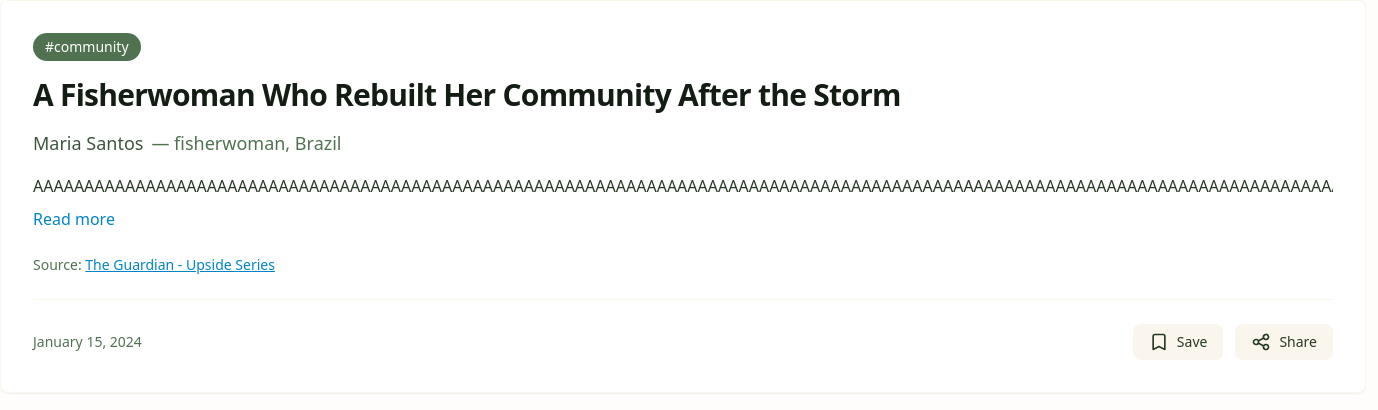
Test: StoryCard › expands and collapses long narratives
The image size is (1378, 410).
# Click to expand
Click the button "Read more" at (74, 219), box [33, 207, 115, 231]
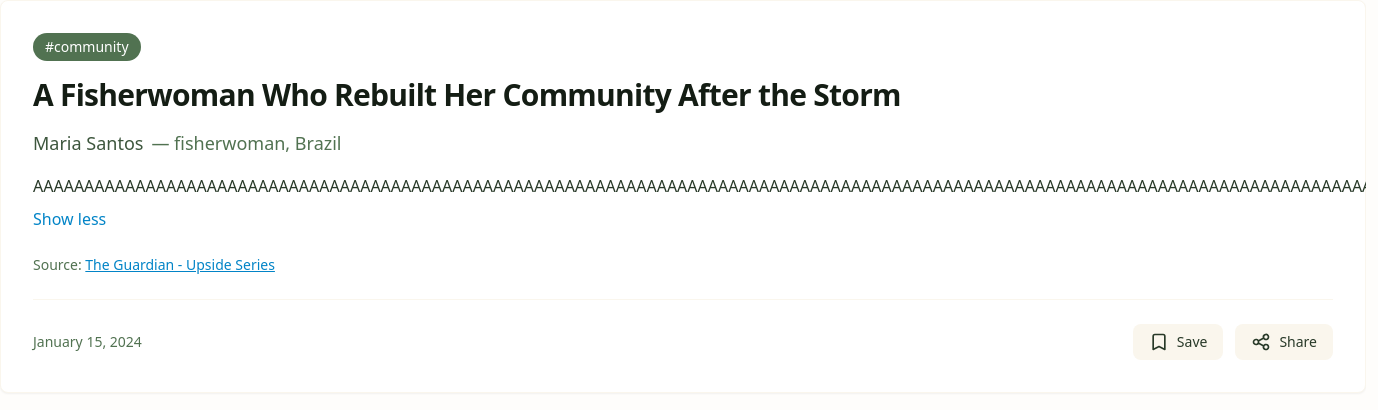
Check: the button "Show less" is shown
# Click to collapse
Click the button "Show less" at (70, 219), box [33, 207, 106, 231]
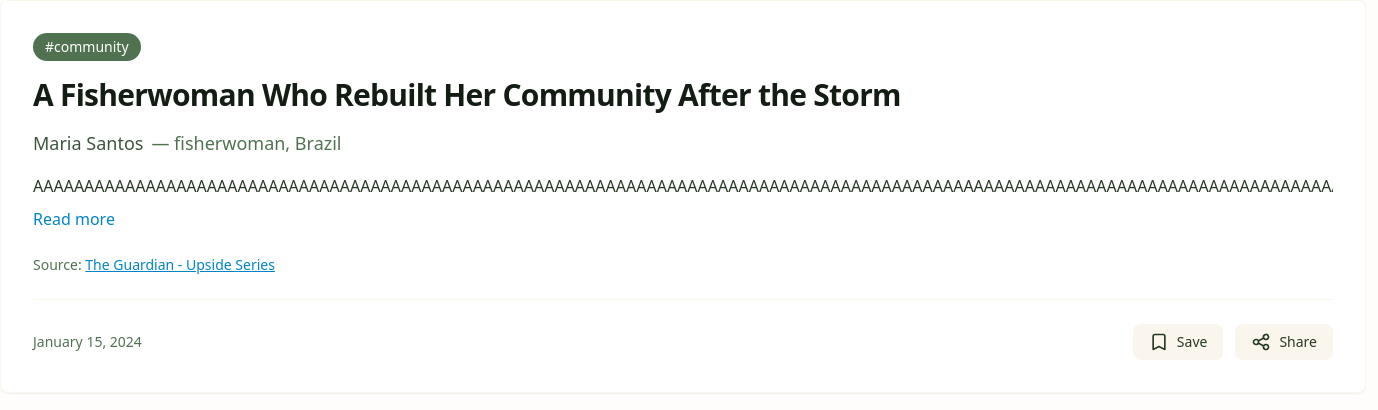
Check: the button "Read more" is shown, box [33, 207, 115, 231]
